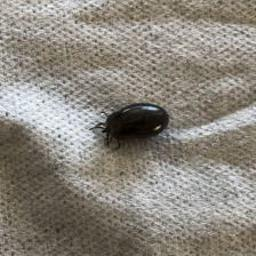Ixodes scapularis: (89, 102, 168, 147)
